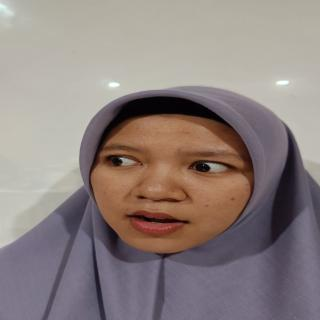Takut: (80, 103, 264, 256)
